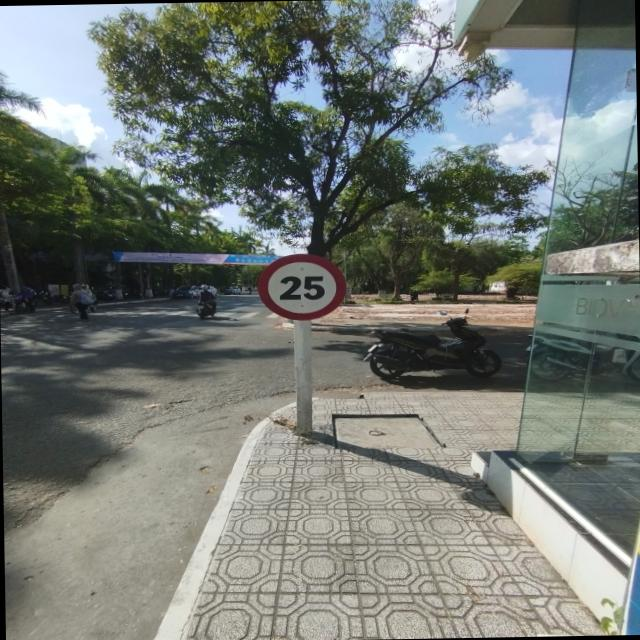Tre_Em: (254, 252, 348, 322)
